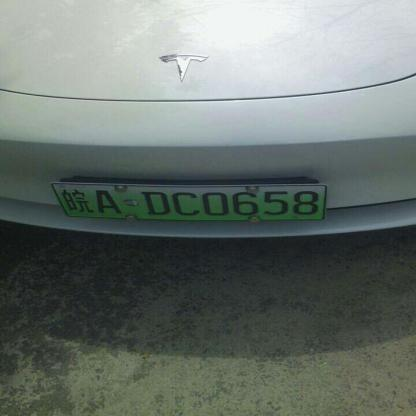lp: (52, 184, 66, 218)
